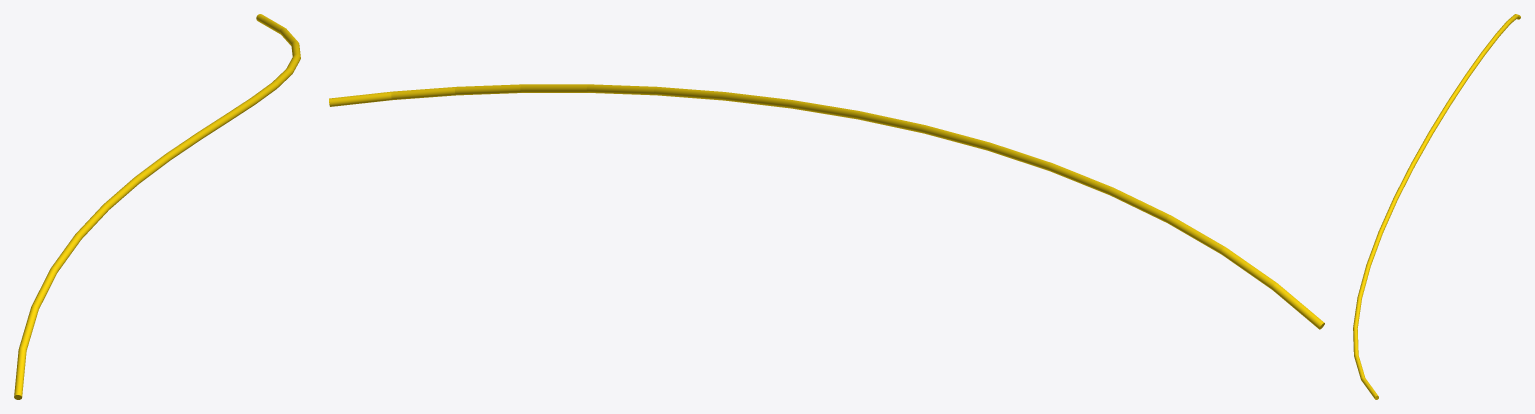
File: Event_420107950_track_69.fbx
The picture shows the model from 3 angles, left to right: view 1: azimuth 90°, elevation 25°; view 2: azimuth 150°, elevation 25°; view 3: azimuth 270°, elevation 25°; orthographic projection. The views are drawn at different scales.
Parts seen in each view (by area): view 1: Model; view 2: Model; view 3: Model.
Part boxes in pixels (left/top/right/bottom): Model: left=14, top=14, right=300, bottom=399; Model: left=329, top=84, right=1324, bottom=329; Model: left=1353, top=14, right=1520, bottom=399.
Size of the model in its own units: 6.02 by 1.04 by 1.41.
